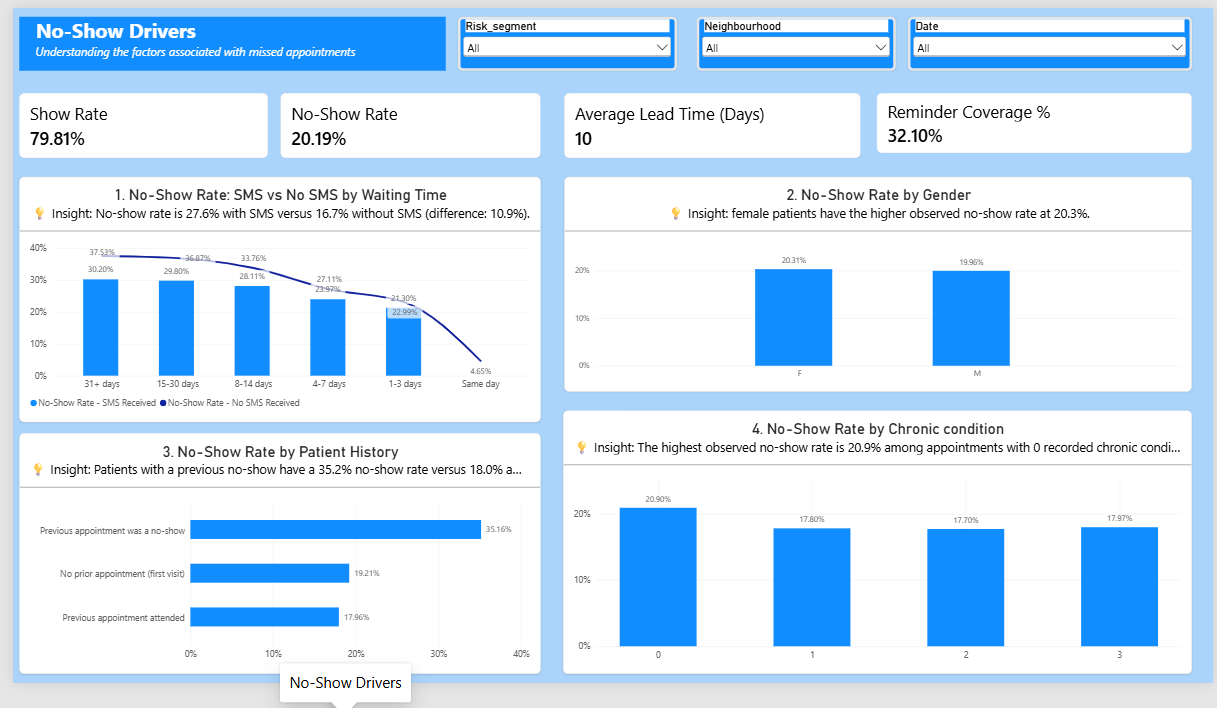

The dashboard page shown, as its layout file describes it:
{"tool":"powerbi","page":{"name":"No-Show Drivers","canvas":[1920,1080],"ordinal":1},"visuals":[{"type":"textbox","box":[9.3,0,683.3,100],"z":0},{"type":"cardVisual","fields":{"Data":["FactAppointments.Show Rate"]},"box":[10,136,398,104],"z":2000},{"type":"cardVisual","fields":{"Data":["FactAppointments.No-Show Rate"]},"box":[428,136,416,104],"z":3000},{"type":"cardVisual","fields":{"Data":["FactAppointments.Average Lead Time (Days)"]},"box":[882,132,474,108],"z":4000},{"type":"cardVisual","fields":{"Data":["FactAppointments.Reminder Coverage %"]},"box":[1382,136,504,96],"z":5000},{"type":"lineClusteredColumnComboChart","title":"1. No-Show Rate: SMS vs No SMS by Waiting Time","fields":{"Category":["FactAppointments.waiting_time_group"],"Y2":["FactAppointments.No-Show Rate - No SMS Received"],"Y":["FactAppointments.No-Show Rate - SMS Received"]},"box":[10.9,269.6,834.3,392.7],"z":6000},{"type":"clusteredBarChart","title":"3. No-Show Rate by Patient History","fields":{"Category":["FactAppointments.Patient History Segment"],"Y":["FactAppointments.No-Show Rate"]},"box":[10.9,680.4,834.3,385.5],"z":7000},{"type":"clusteredColumnChart","title":"2. No-Show Rate by Gender","fields":{"Category":["DimPatient.gender"],"Y":["FactAppointments.No-Show Rate"]},"box":[881.3,269.6,1004.4,343.8],"z":8000},{"type":"clusteredColumnChart","title":"4. No-Show Rate by Chronic condition","fields":{"Category":["FactAppointments.chronic_condition_count"],"Y":["FactAppointments.No-Show Rate"]},"box":[879.5,644.2,1006.2,421.7],"z":9000},{"type":"slicer","fields":{"Values":["DimDate.year_month"]},"box":[1431.5,0,453.7,100],"z":10000},{"type":"slicer","fields":{"Values":["DimLocation.neighbourhood"]},"box":[1094.4,0,318.5,100],"z":11000},{"type":"slicer","fields":{"Values":["FactAppointments.risk_segment"]},"box":[711.1,0,351.9,100],"z":12000}]}

Visuals, with their boxes on the page's 1920x1080 design canvas (x1, y1, x2, y2). These are canvas units, not pixel positions in the 1217x708 screenshot, which may show the page scaled, cropped or inside an application window:
textbox: (9,0,693,100)
cardVisual - FactAppointments.Show Rate: (10,136,408,240)
cardVisual - FactAppointments.No-Show Rate: (428,136,844,240)
cardVisual - FactAppointments.Average Lead Time (Days): (882,132,1356,240)
cardVisual - FactAppointments.Reminder Coverage %: (1382,136,1886,232)
"1. No-Show Rate: SMS vs No SMS by Waiting Time" lineClusteredColumnComboChart: (11,270,845,662)
"3. No-Show Rate by Patient History" clusteredBarChart: (11,680,845,1066)
"2. No-Show Rate by Gender" clusteredColumnChart: (881,270,1886,613)
"4. No-Show Rate by Chronic condition" clusteredColumnChart: (880,644,1886,1066)
slicer - DimDate.year_month: (1432,0,1885,100)
slicer - DimLocation.neighbourhood: (1094,0,1413,100)
slicer - FactAppointments.risk_segment: (711,0,1063,100)
